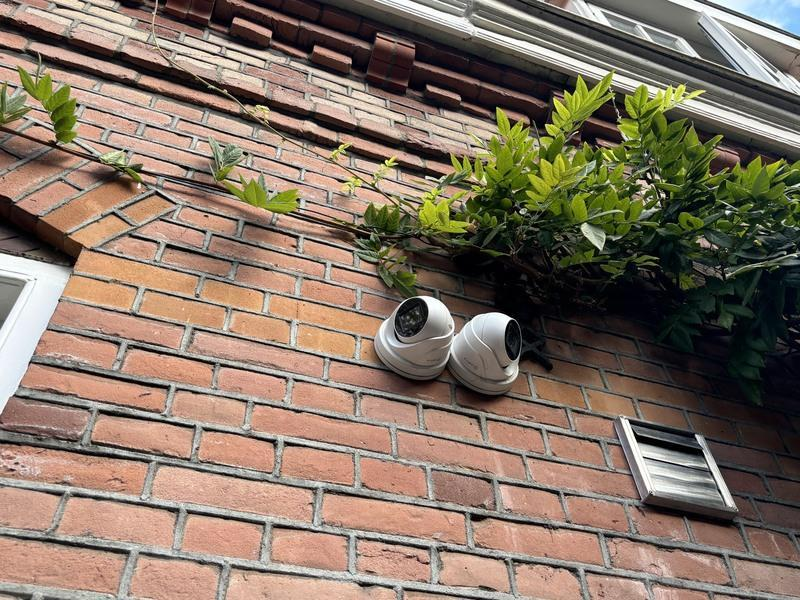turret: (367, 289, 449, 395), (457, 295, 527, 402)
